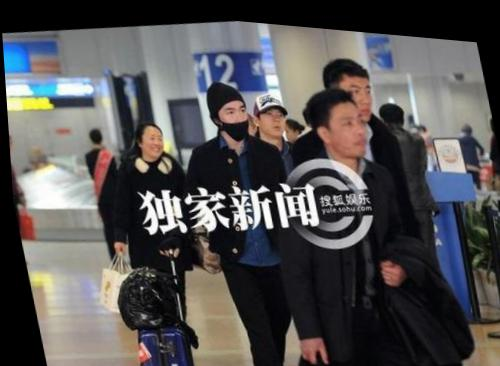NONE: (329, 107, 371, 154), (342, 75, 379, 116), (258, 101, 288, 133), (140, 128, 166, 155)
WRONG: (216, 96, 252, 136)
